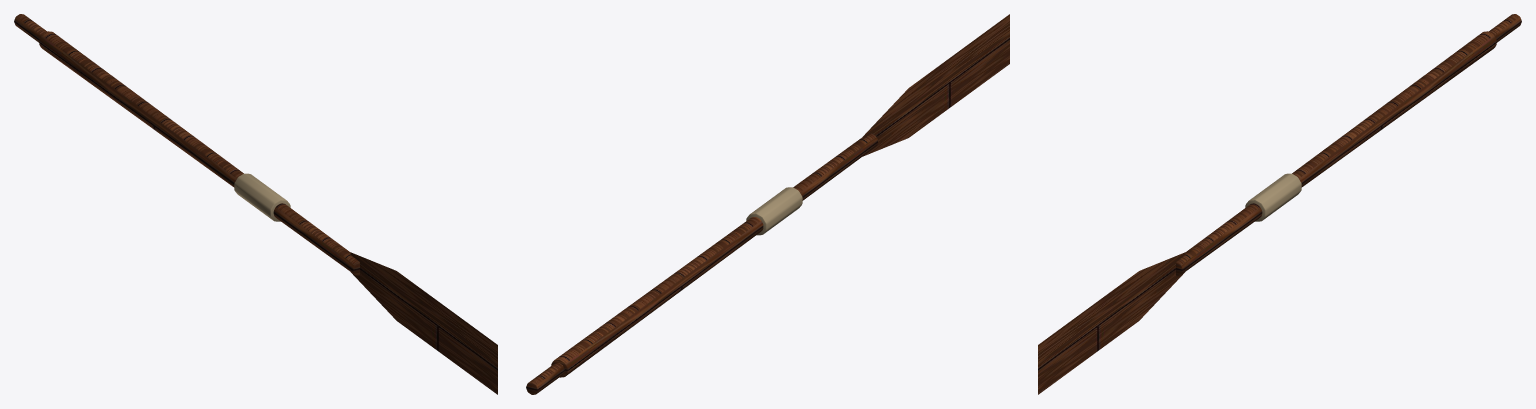
The model's file is oar.glb.
The picture shows the model from 3 angles, left to right: view 1: azimuth 30°, elevation 25°; view 2: azimuth 150°, elevation 25°; view 3: azimuth 330°, elevation 25°; orthographic projection.
Visible parts, largest first — view 1: boat_house, boat_rope; view 2: boat_house, boat_rope; view 3: boat_house, boat_rope.
Boxes of the visible parts, left/top/right/bottom form: boat_house: left=14, top=14, right=497, bottom=394; boat_rope: left=234, top=173, right=290, bottom=221; boat_house: left=526, top=14, right=1009, bottom=394; boat_rope: left=746, top=187, right=802, bottom=235; boat_house: left=1038, top=14, right=1521, bottom=394; boat_rope: left=1245, top=173, right=1301, bottom=221.
Size of the model in its own units: 0.0647 by 0.15 by 2.6.
Materials: 2 (1 with a texture image).
